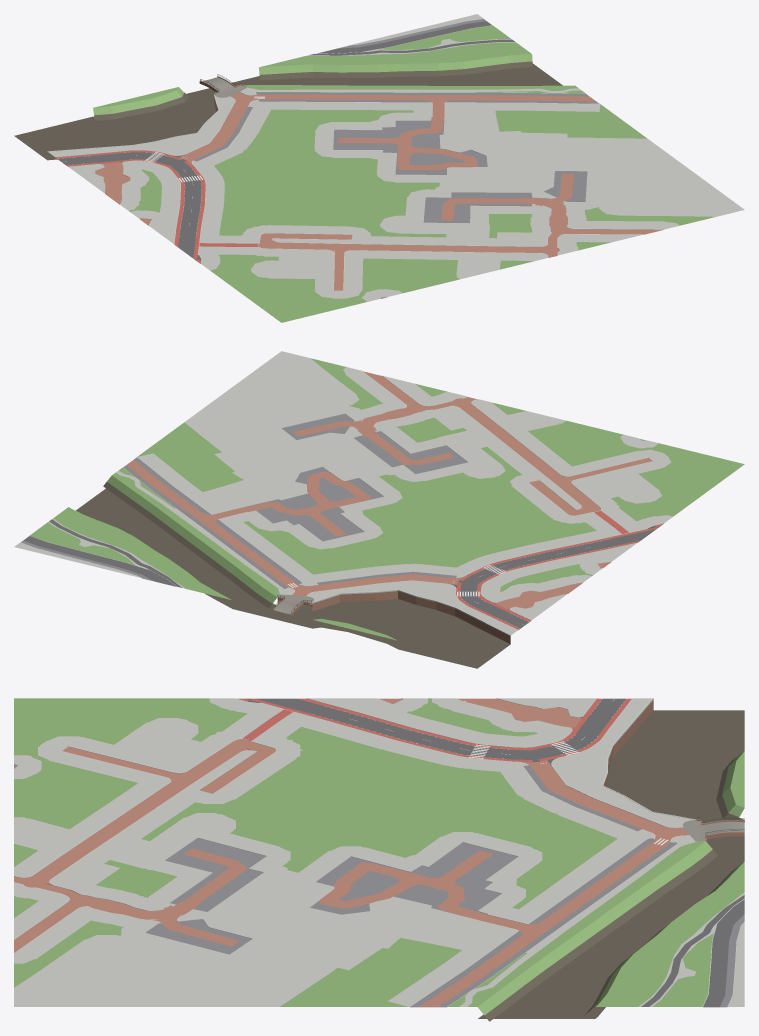
File: ground_7_11.glb
The picture shows the model from 3 angles, top to bottom: view 1: azimuth 30°, elevation 25°; view 2: azimuth 150°, elevation 25°; view 3: azimuth 270°, elevation 25°; orthographic projection. The views are drawn at different scales.
Visible parts, largest first — view 1: ground_7_11; view 2: ground_7_11; view 3: ground_7_11.
Part boxes in pixels (x1,y1,x2,y2): ground_7_11: (14,14,744,322); ground_7_11: (14,351,744,668); ground_7_11: (14,697,744,1021).
Size of the model in its own units: 203 by 5.2 by 200.
